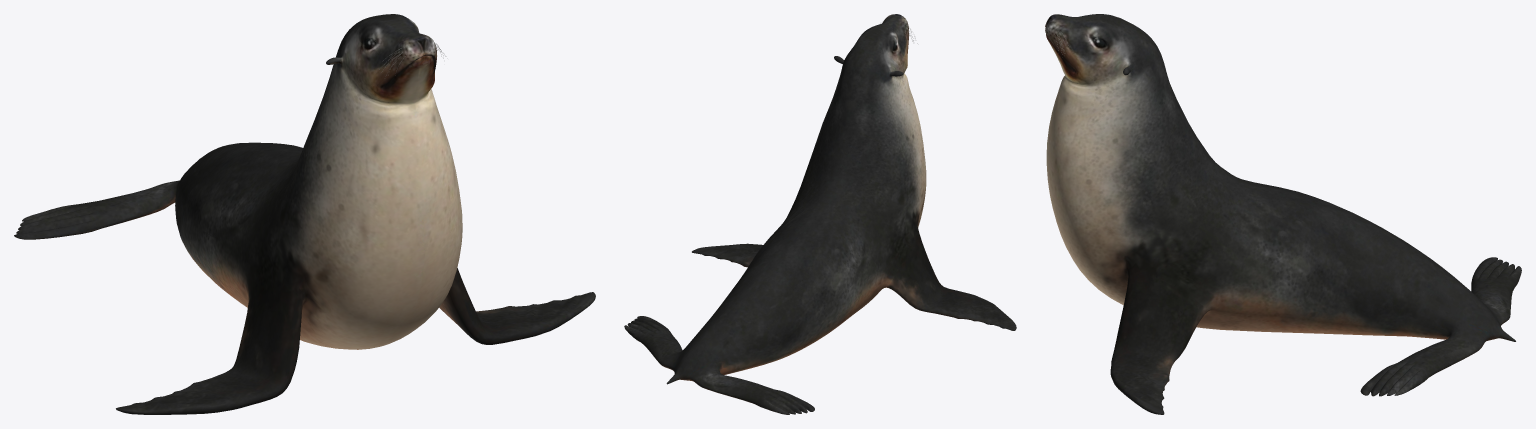
The model's file is foca_animacion1.obj.
3 renders of one model, left to right at view 1: azimuth 30°, elevation 25°; view 2: azimuth 150°, elevation 25°; view 3: azimuth 270°, elevation 25°, orthographic. The views are drawn at different scales.
Parts seen in each view (by area): view 1: 10041_sealion_v1_L3.001; view 2: 10041_sealion_v1_L3.001; view 3: 10041_sealion_v1_L3.001.
Boxes of the visible parts, x1=… form: 10041_sealion_v1_L3.001: x1=14, y1=14, x2=595, y2=414; 10041_sealion_v1_L3.001: x1=624, y1=14, x2=1016, y2=414; 10041_sealion_v1_L3.001: x1=1045, y1=14, x2=1521, y2=414.
Bounding box in the file's own units: 15.45 × 11.28 × 16.
Materials: 1 (1 with a texture image).
